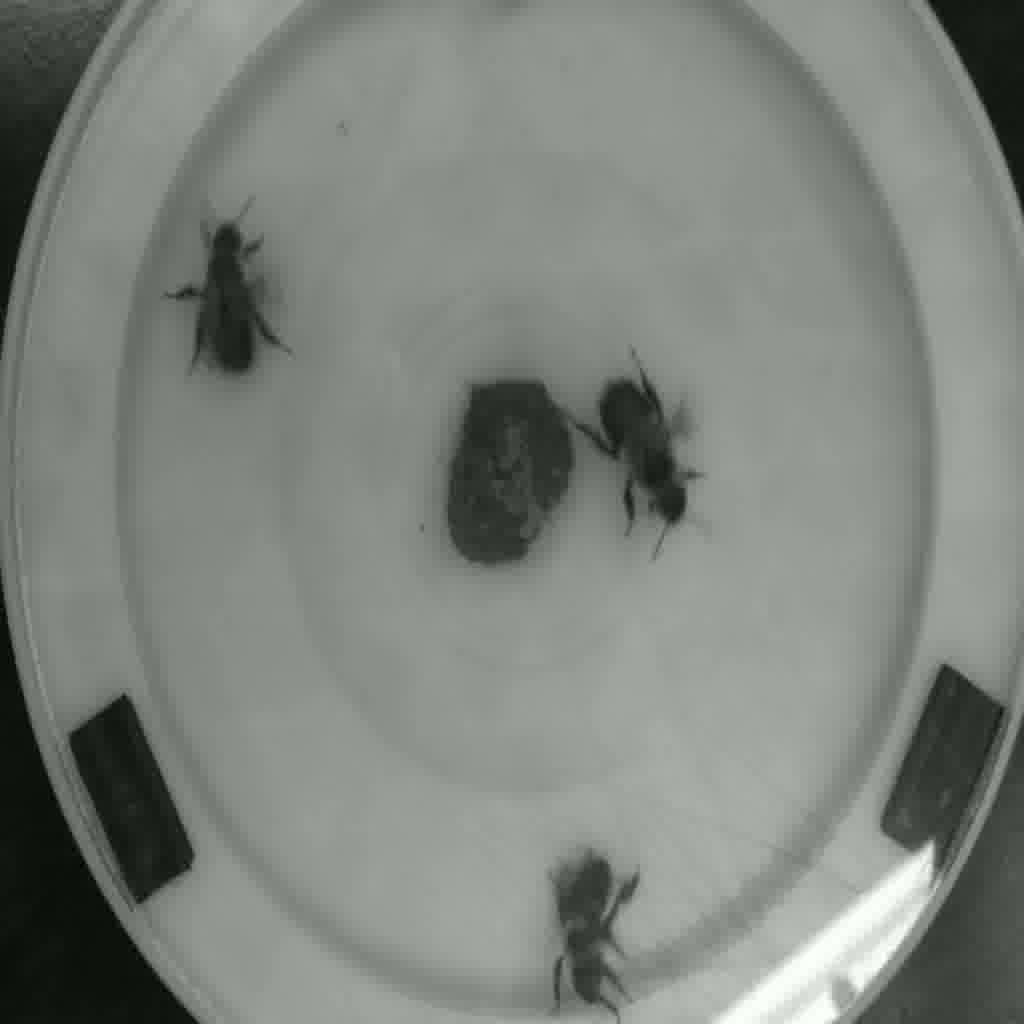bee: (568, 349, 714, 544), (533, 830, 664, 1024), (167, 189, 288, 392)
